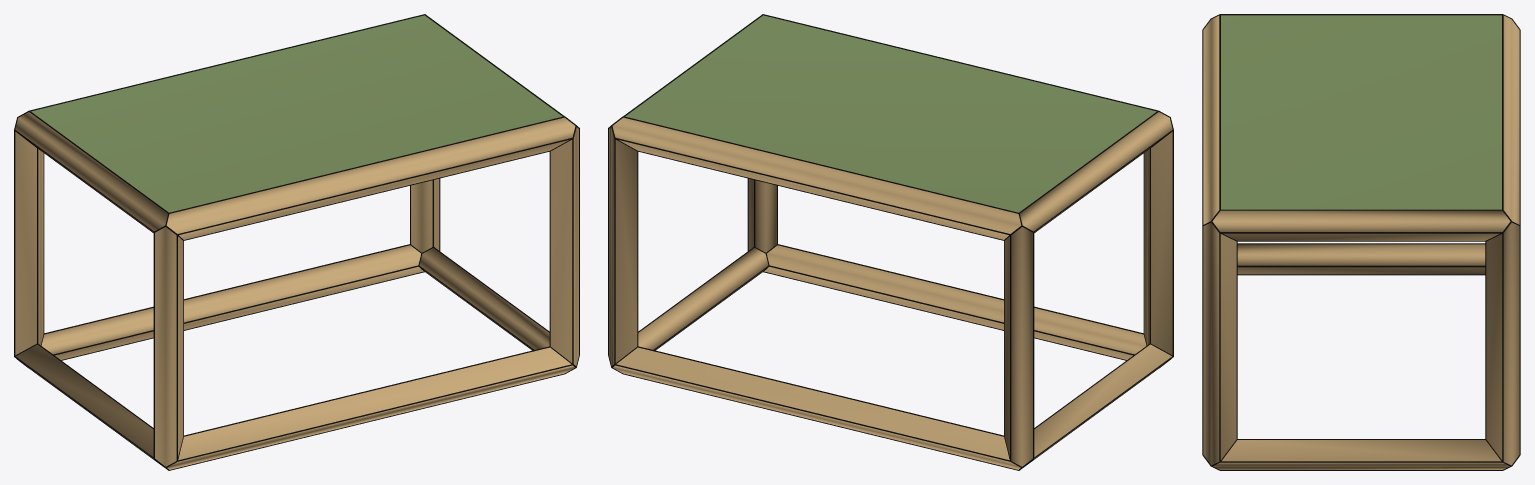
The model's file is table-basse-moyenne.glb.
3 renders of one model, left to right at view 1: azimuth 30°, elevation 25°; view 2: azimuth 150°, elevation 25°; view 3: azimuth 270°, elevation 25°, orthographic.
Visible parts, largest first — view 1: panneau-dessus_exterieur, arete-X2, arete-X0, arete-X1, arete-Z0, arete-Z1, arete-Z2, arete-Y2, arete-Y0, arete-Y1, arete-wire-X0, arete-wire-X2 (+9 smaller); view 2: panneau-dessus_exterieur, arete-X3, arete-X1, arete-X0, arete-Z2, arete-Z3, arete-Z0, arete-Y2, arete-Y0, arete-Y1, arete-wire-X1, arete-wire-X3 (+9 smaller); view 3: panneau-dessus_exterieur, arete-Y3, arete-Y1, arete-Z1, arete-Z3, arete-Y0, arete-X2, arete-X3, arete-wire-Y0, arete-wire-Y3, arete-wire-Z1, arete-wire-Z3 (+4 smaller).
Boxes of the visible parts, x1,y1,x2,y2 form: panneau-dessus_exterieur: (31,15,562,212); arete-X2: (166,117,575,239); arete-X0: (167,347,574,469); arete-X1: (41,245,423,359); arete-Z0: (155,227,183,466); arete-Z1: (550,127,578,365); arete-Z2: (15,131,43,355); arete-Y2: (15,112,167,232); arete-Y0: (16,344,153,458); arete-Y1: (419,248,549,349); arete-wire-X0: (165,346,576,470); arete-wire-X2: (165,116,576,240); panneau-dessus_exterieur: (625,15,1156,212); arete-X3: (612,117,1021,239); arete-X1: (613,347,1020,469); arete-X0: (764,245,1146,359); arete-Z2: (1004,227,1032,466); arete-Z3: (609,127,637,365); arete-Z0: (1144,131,1172,355); arete-Y2: (1020,112,1172,232); arete-Y0: (1034,344,1171,458); arete-Y1: (638,248,768,349); arete-wire-X1: (611,346,1022,470); arete-wire-X3: (611,116,1018,240); panneau-dessus_exterieur: (1221,15,1501,209); arete-Y3: (1212,210,1510,240); arete-Y1: (1213,440,1509,469); arete-Z1: (1203,222,1236,465); arete-Z3: (1486,222,1519,465); arete-Y0: (1237,244,1485,274); arete-X2: (1203,15,1219,224); arete-X3: (1503,15,1519,224); arete-wire-Y0: (1237,243,1485,275); arete-wire-Y3: (1220,209,1511,241); arete-wire-Z1: (1202,221,1237,461); arete-wire-Z3: (1485,226,1520,461).
Size of the model in its own units: 0.8309 by 0.4809 by 0.5309.
